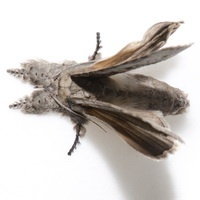insect: (7, 21, 191, 157)
